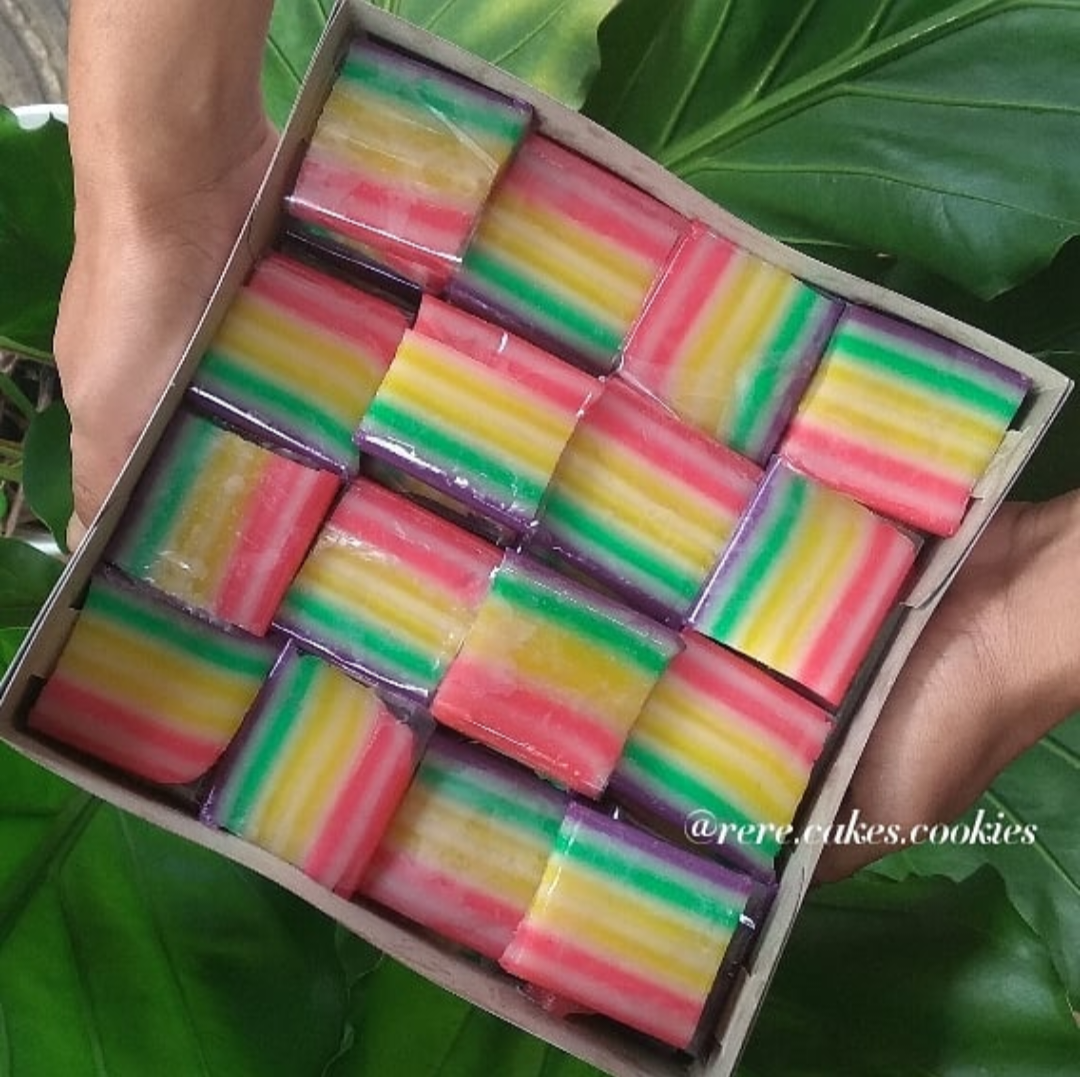kue_lapis_pelangi: (18, 564, 267, 843), (426, 556, 687, 803), (350, 307, 623, 540), (262, 482, 495, 750), (525, 370, 767, 628), (688, 462, 930, 710), (508, 806, 751, 1050), (88, 401, 324, 636), (626, 219, 850, 466), (465, 127, 691, 366), (207, 648, 420, 897), (283, 36, 501, 279), (626, 637, 837, 881), (778, 305, 1036, 492), (183, 245, 393, 472), (329, 771, 600, 914)
